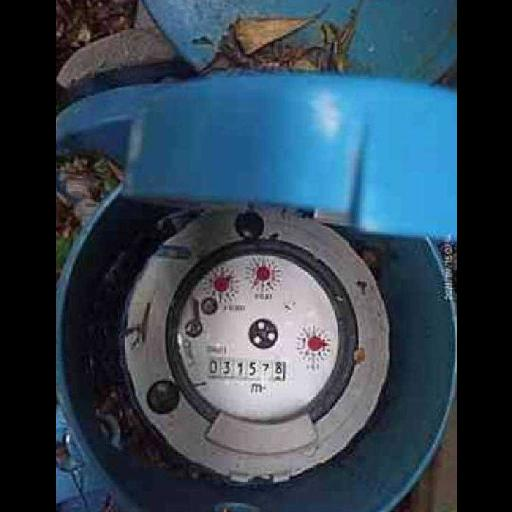0: (208, 360, 220, 377)
1: (234, 360, 247, 378)
3: (221, 360, 233, 377)
5: (248, 361, 259, 379)
7: (261, 362, 272, 381)
8: (273, 362, 284, 381)
border_water_meter_number: (206, 357, 286, 384)
